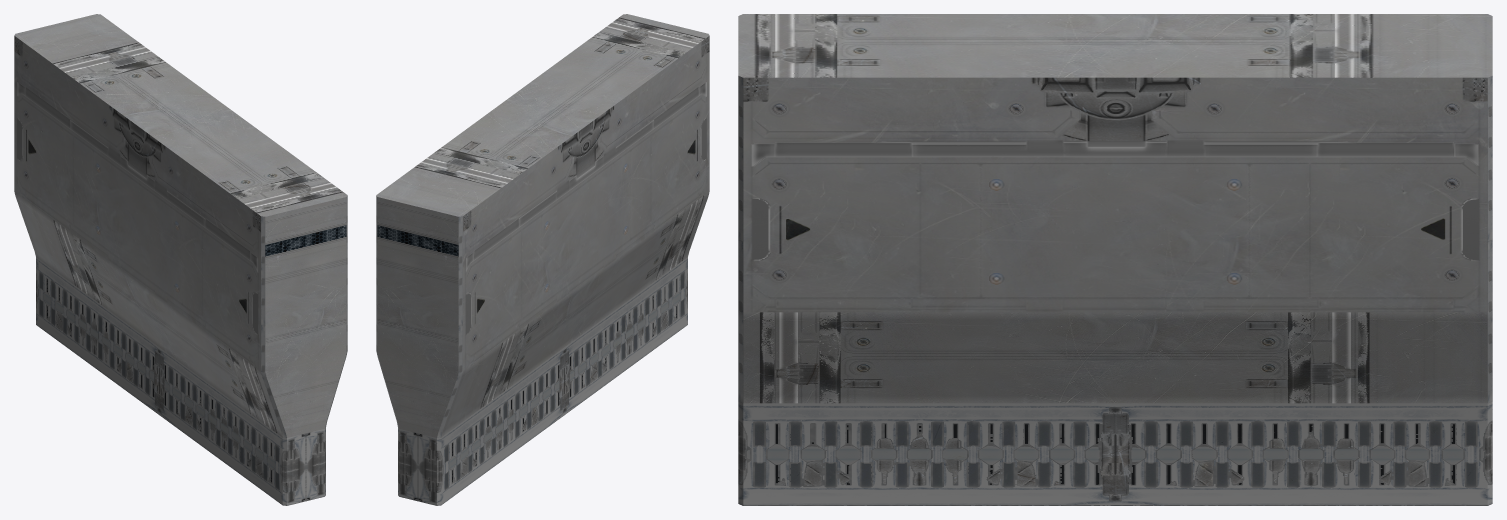
File: SM_Wallup08.fbx
3 views of the same model, side by side, from view 1: azimuth 30°, elevation 25°; view 2: azimuth 150°, elevation 25°; view 3: azimuth 270°, elevation 25° (orthographic). The views are drawn at different scales.
Parts seen in each view (by area): view 1: SM_Wallup08_LOD0; view 2: SM_Wallup08_LOD0; view 3: SM_Wallup08_LOD0.
Part boxes in pixels (box(x1,y1,x2,y2)): SM_Wallup08_LOD0: box(14, 14, 347, 505); SM_Wallup08_LOD0: box(376, 14, 709, 505); SM_Wallup08_LOD0: box(738, 14, 1492, 505).
Size of the model in its own units: 80 by 400 by 260.
3 materials, 3 textured.
